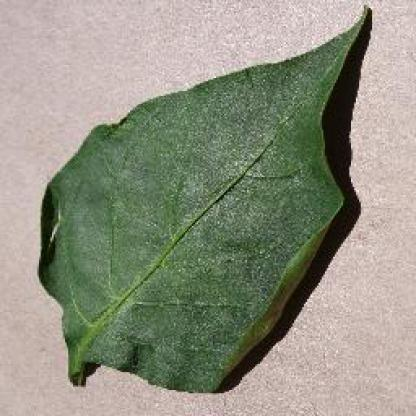good leaf: (50, 39, 354, 343)
